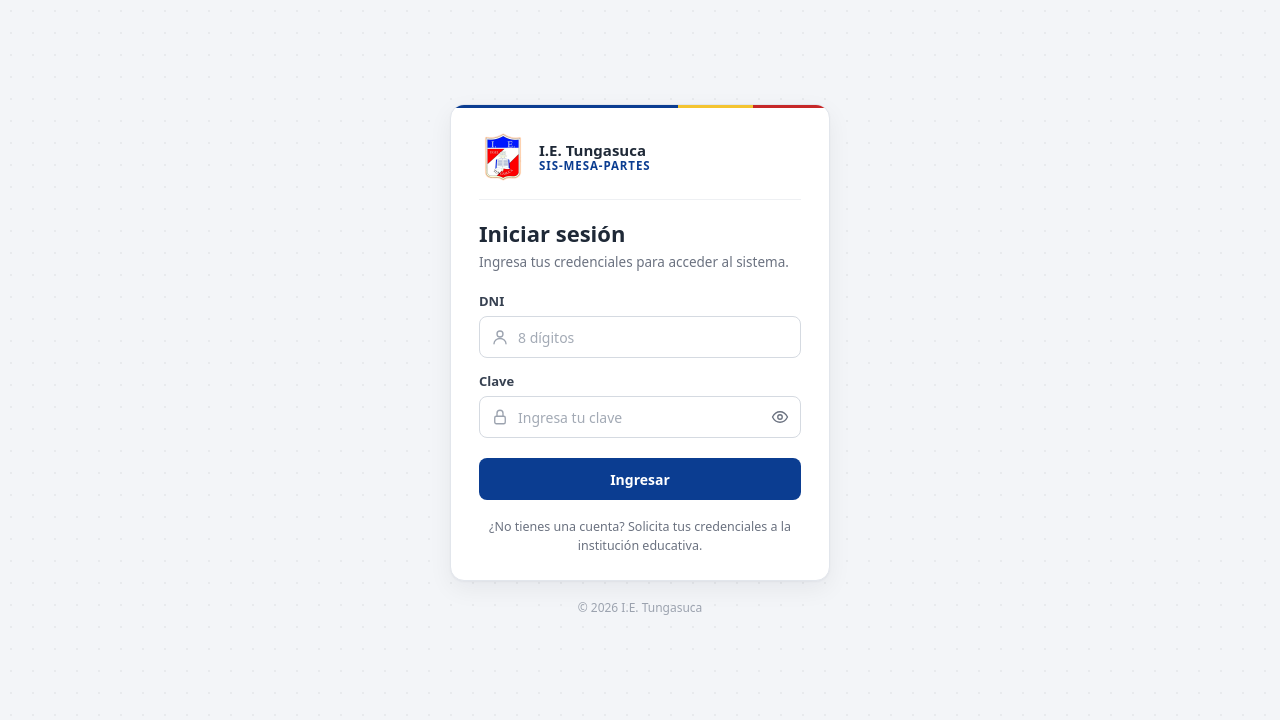
Scenario: Login — mostrar contraseña › la clave empieza oculta y el botón la muestra y la vuelve a ocultar
The image size is (1280, 720).
Step 1. Type "secreta" into the password field labelled "Clave" → {"x": 640, "y": 417}, box [479,396,801,438]
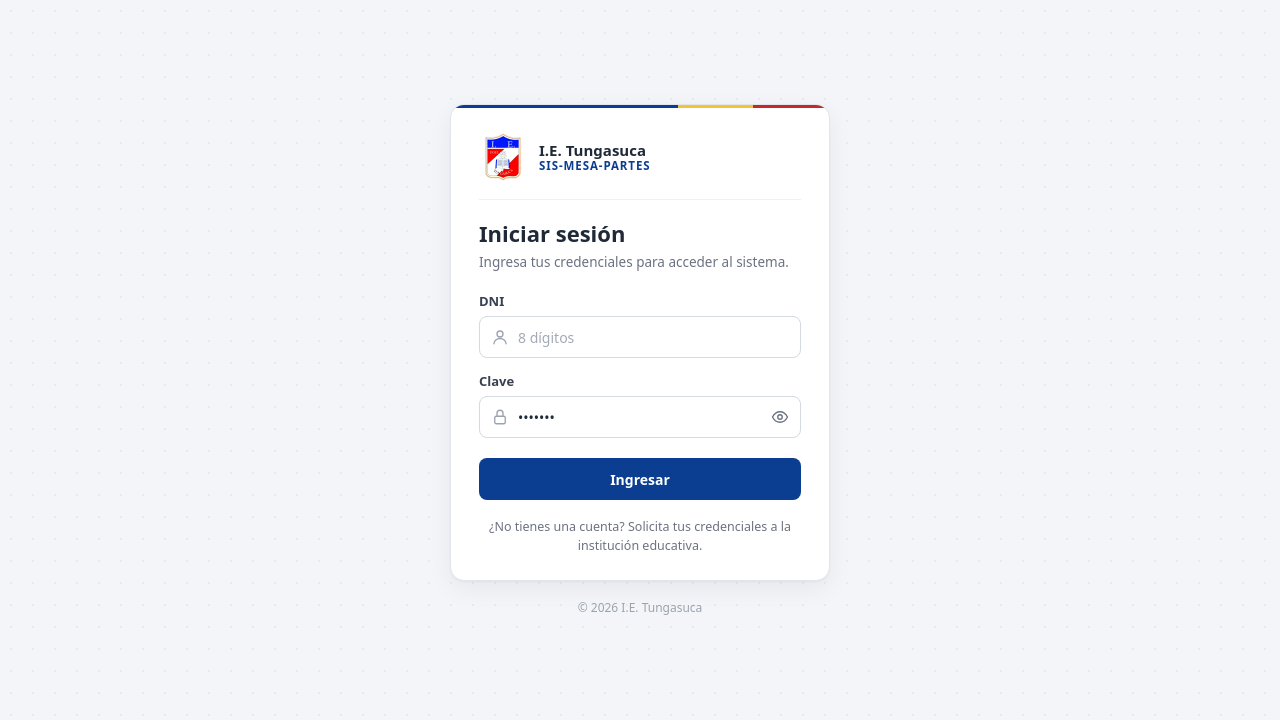
Step 2. Click the button named "Mostrar contraseña" → {"x": 780, "y": 417}, box [764,401,796,433]
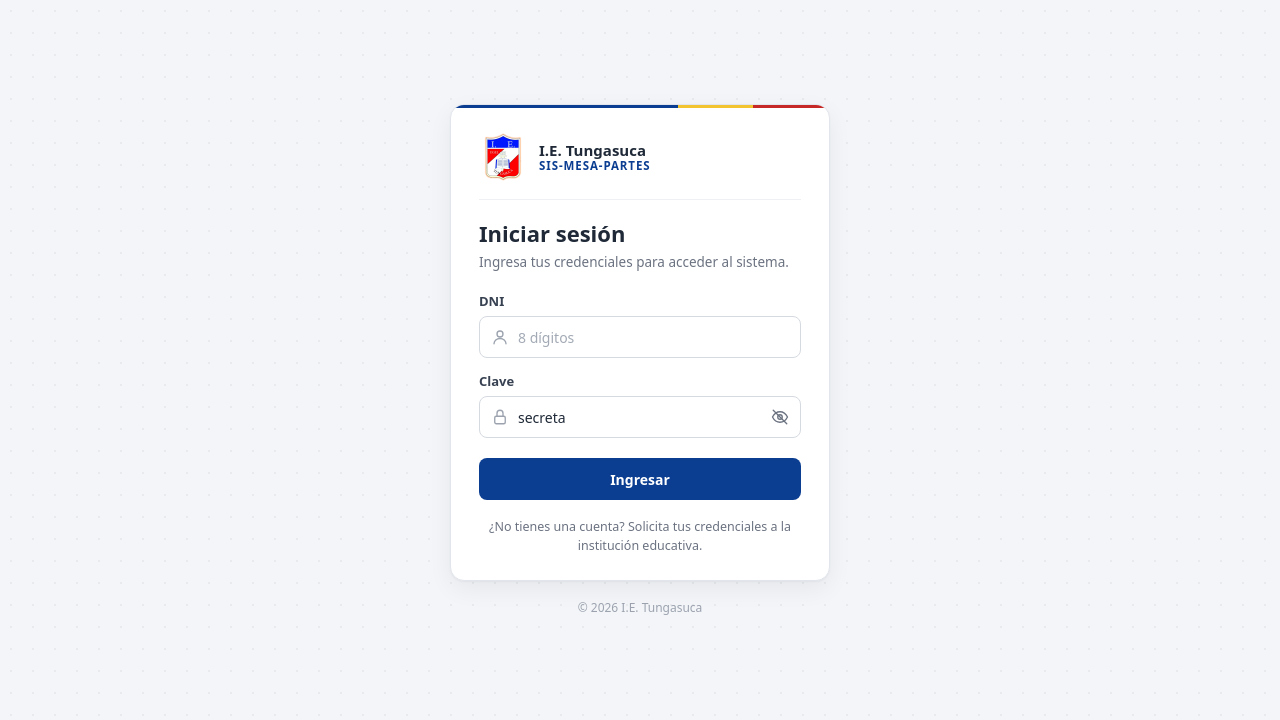
Expected: the field labelled "Clave" shows its text, [479,396,801,438]
Step 3. Click the button named "Ocultar contraseña" → {"x": 780, "y": 417}, box [764,401,796,433]
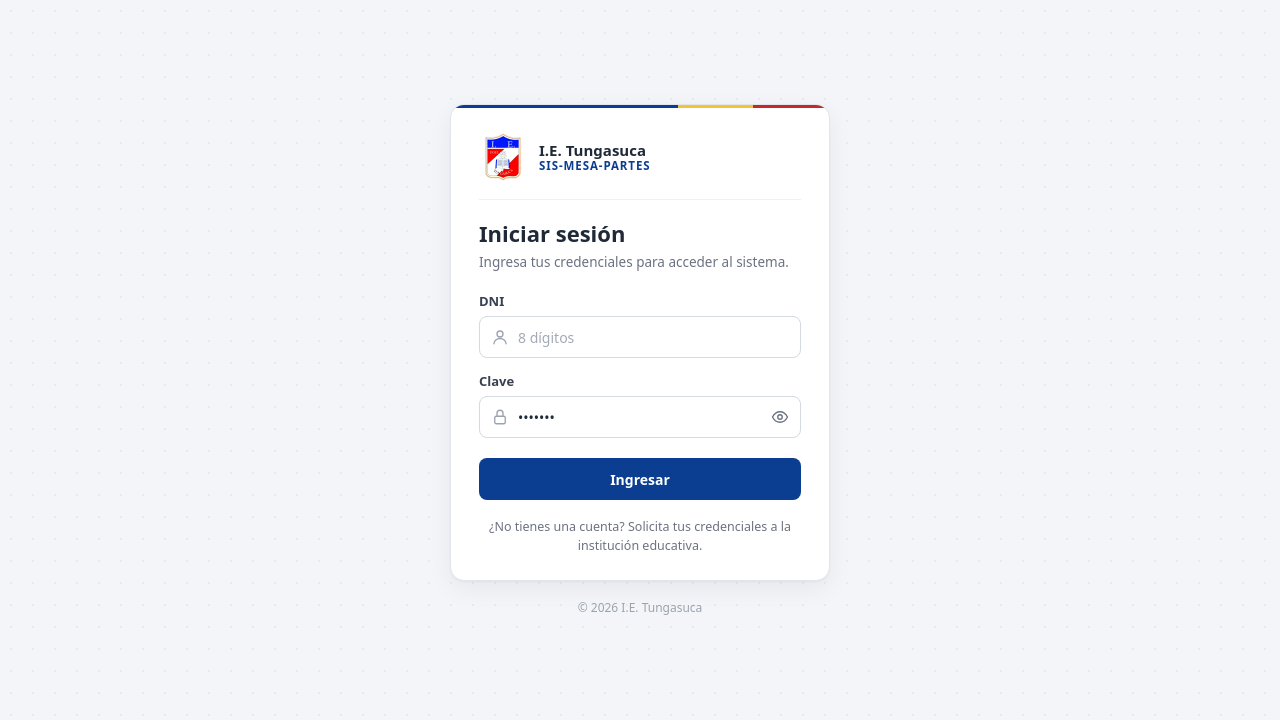
Expected: the password field labelled "Clave" hides its text, [479,396,801,438]
